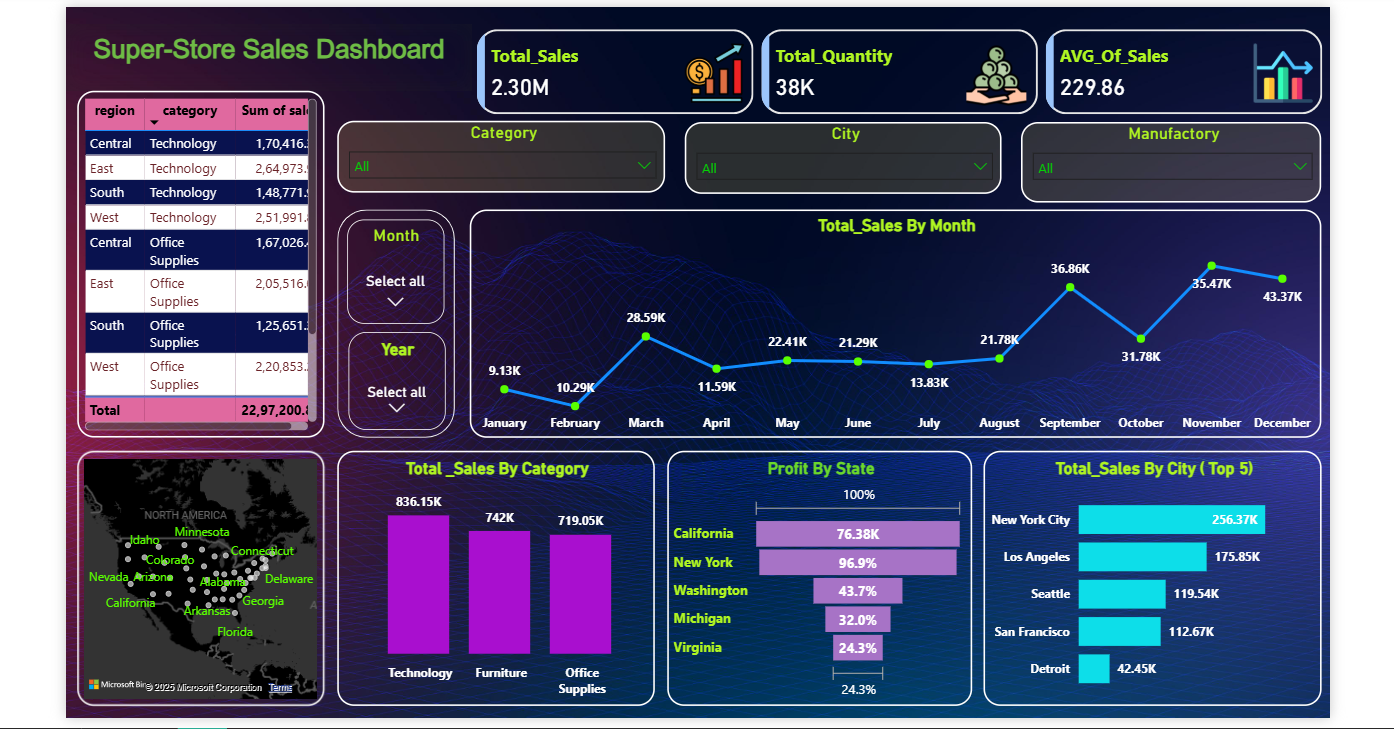

The dashboard page shown, as its layout file describes it:
{"tool":"powerbi","page":{"name":"Dashboard","canvas":[1280,720],"ordinal":0},"visuals":[{"type":"cardVisual","fields":{"Data":["superstore_dataset.Total_Sales","Sum(superstore_dataset.quantity)","superstore_dataset.AVG"]},"box":[411.2,17.5,868.8,96.2],"z":0},{"type":"slicer","title":"Manufactory","fields":{"Values":["superstore_dataset.manufactory"]},"box":[967.4,116.2,303.9,81.3],"z":0,"group":"g4"},{"type":"shape","box":[275,205,119,231.2],"z":0,"group":"g3"},{"type":"slicer","title":"City","fields":{"Values":["superstore_dataset.city"]},"box":[626.3,116.2,320.5,72.6],"z":1000,"group":"g4"},{"type":"lineChart","title":"Total_Sales By Month","fields":{"Category":["superstore_dataset.order_date.Variation.Date Hierarchy.Month"],"Y":["superstore_dataset.Total_Sales"]},"box":[409.1,205,862.2,231.2],"z":1000,"group":"g1"},{"type":"advancedSlicerVisual","title":"Year","fields":{"Values":["superstore_dataset.order_date.Variation.Date Hierarchy.Year"]},"box":[286.3,328.8,98.2,99.3],"z":1000,"group":"g3"},{"type":"clusteredBarChart","title":"Total_Sales By City ( Top 5)","fields":{"Category":["superstore_dataset.city"],"Y":["superstore_dataset.Total_Sales"]},"box":[928.8,448.8,342.5,258.8],"z":1000},{"type":"slicer","title":"Category","fields":{"Values":["superstore_dataset.category"]},"box":[275,115,332.1,72.6],"z":2000,"group":"g4"},{"type":"advancedSlicerVisual","fields":{"Values":["superstore_dataset.order_date.Variation.Date Hierarchy.Month"]},"box":[285.1,215,98.2,105.3],"z":2000,"group":"g3"},{"type":"columnChart","title":"Total _Sales By Category                    ","fields":{"Y":["superstore_dataset.Total_Sales"],"Category":["superstore_dataset.category"]},"box":[275,448.8,321.2,258.8],"z":2000},{"type":"group","id":"g1","title":"Group 4","box":[275,205,996.2,231.2],"z":3000},{"type":"group","id":"g2","title":"Group 2","box":[275,205,119,231.2],"z":3000,"group":"g1"},{"type":"group","id":"g3","title":"Group 3","box":[275,205,119,231.2],"z":3001,"group":"g2"},{"type":"funnel","title":"Profit By State","fields":{"Category":["superstore_dataset.state"],"Y":["Sum(superstore_dataset.profit)","select"]},"box":[608.8,448.8,308.8,258.8],"z":4000},{"type":"map","fields":{"Category":["superstore_dataset.state"]},"box":[11.2,448.8,250,258.8],"z":5000},{"type":"textbox","box":[0,17.5,411.2,67.5],"z":6000},{"type":"tableEx","fields":{"Values":["superstore_dataset.region","superstore_dataset.category","Sum(superstore_dataset.sales)"]},"box":[11.2,85,250,351.2],"z":7000},{"type":"group","id":"g4","title":"Group 1","box":[275,115,996.2,82.5],"z":8003}]}

Visuals, with their boxes in screenshot pixels (x1, y1, x2, y2):
cardVisual - superstore_dataset.Total_Sales x Sum(superstore_dataset.quantity): x1=465 y1=17 x2=1334 y2=114
"Manufactory" slicer: x1=1021 y1=116 x2=1325 y2=197
shape: x1=329 y1=205 x2=448 y2=436
"City" slicer: x1=680 y1=116 x2=1001 y2=189
"Total_Sales By Month" lineChart: x1=463 y1=205 x2=1325 y2=436
"Year" advancedSlicerVisual: x1=341 y1=329 x2=439 y2=428
"Total_Sales By City ( Top 5)" clusteredBarChart: x1=983 y1=449 x2=1325 y2=707
"Category" slicer: x1=329 y1=115 x2=661 y2=187
advancedSlicerVisual - superstore_dataset.order_date.Variation.Date Hierarchy.Month: x1=339 y1=215 x2=438 y2=320
"Total _Sales By Category                    " columnChart: x1=329 y1=449 x2=650 y2=707
"Group 4" group: x1=329 y1=205 x2=1325 y2=436
"Group 2" group: x1=329 y1=205 x2=448 y2=436
"Group 3" group: x1=329 y1=205 x2=448 y2=436
"Profit By State" funnel: x1=663 y1=449 x2=972 y2=707
map - superstore_dataset.state: x1=66 y1=449 x2=315 y2=707
textbox: x1=54 y1=17 x2=465 y2=85
tableEx - superstore_dataset.region x superstore_dataset.category: x1=66 y1=85 x2=315 y2=436
"Group 1" group: x1=329 y1=115 x2=1325 y2=197
